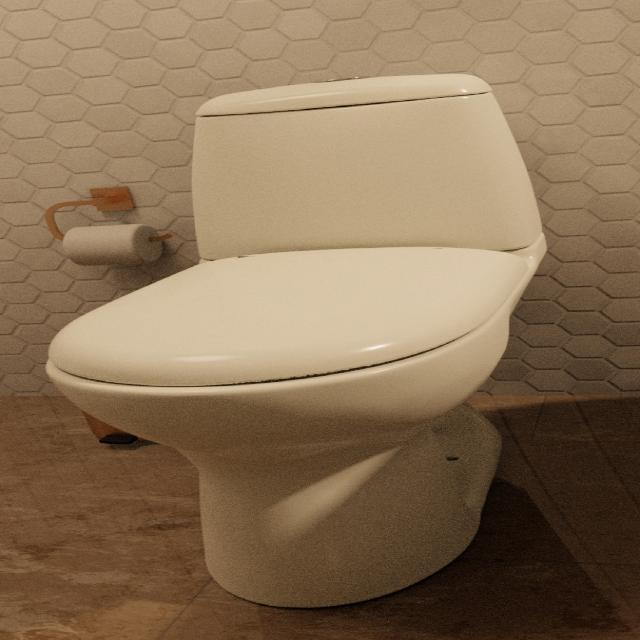toilet: (44, 72, 547, 608)
